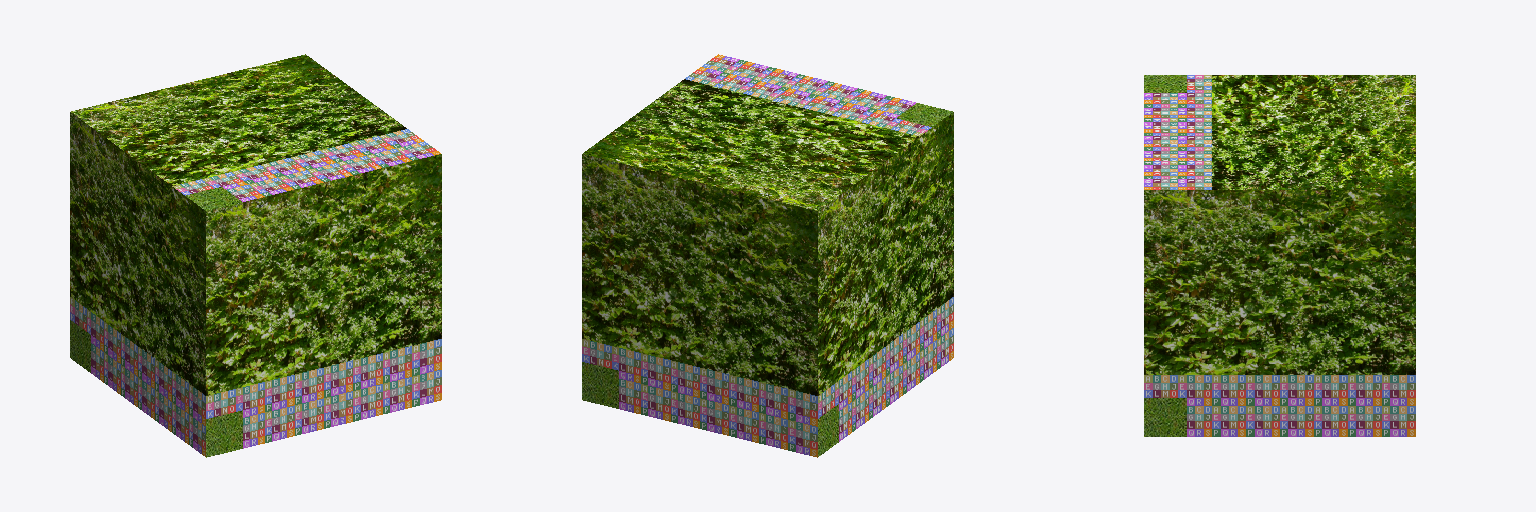
3 views of the same model, side by side, from view 1: azimuth 30°, elevation 25°; view 2: azimuth 150°, elevation 25°; view 3: azimuth 270°, elevation 25° (orthographic).
Parts seen in each view (by area): view 1: cube2; view 2: cube2; view 3: cube2.
Part boxes in pixels (x1,y1,x2,y2): cube2: (70,54,441,457); cube2: (582,54,953,457); cube2: (1144,75,1415,436).
Bounding box in the file's own units: 1 × 1 × 1.
Materials: 1 (1 with a texture image).